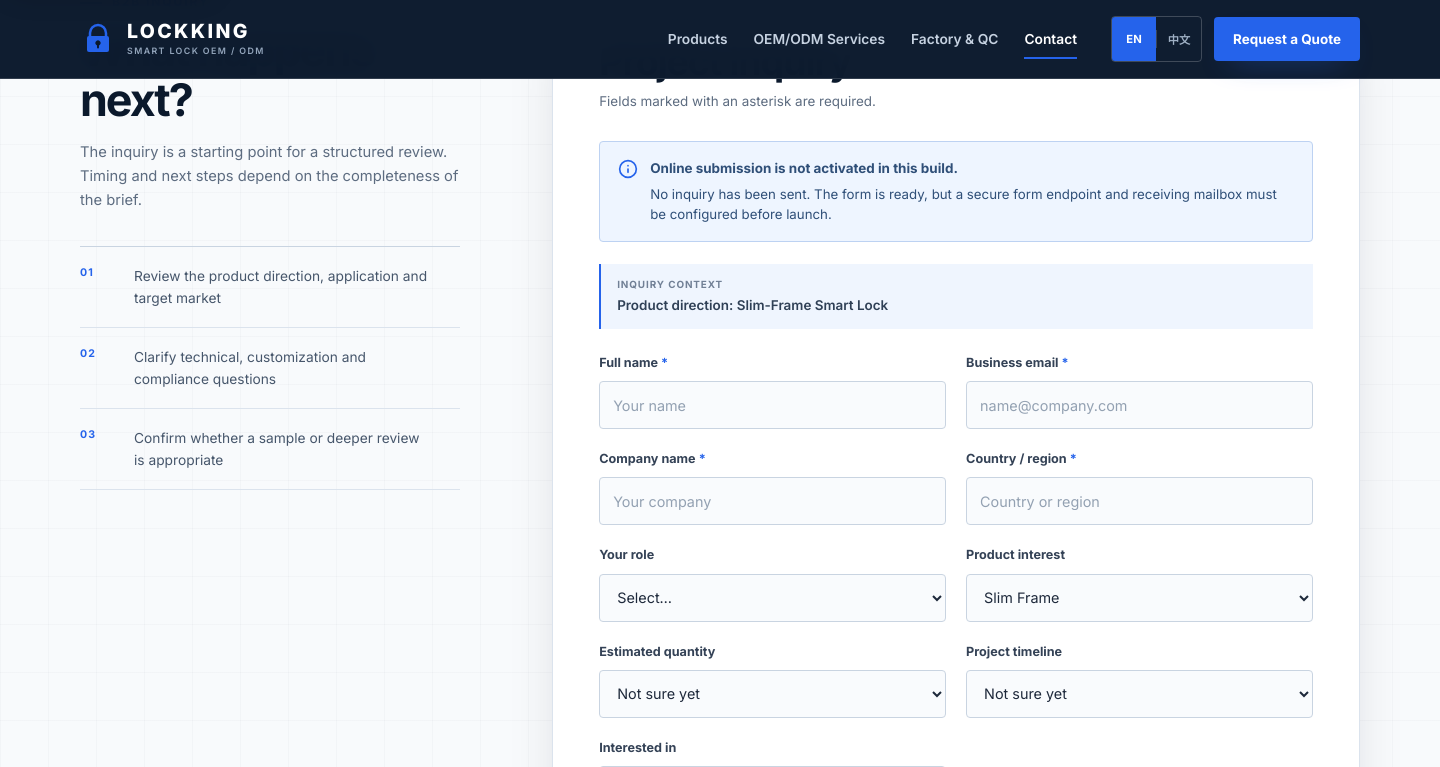
inquiry form submission states › shows success only after the submission adapter resolves
(page scrolled)
In the field labelled "Full name *": (773, 405) [599, 381, 946, 429], type "Alex Morgan"
In the field labelled "Business email *": (1140, 405) [966, 381, 1313, 429], type "alex@example.com"
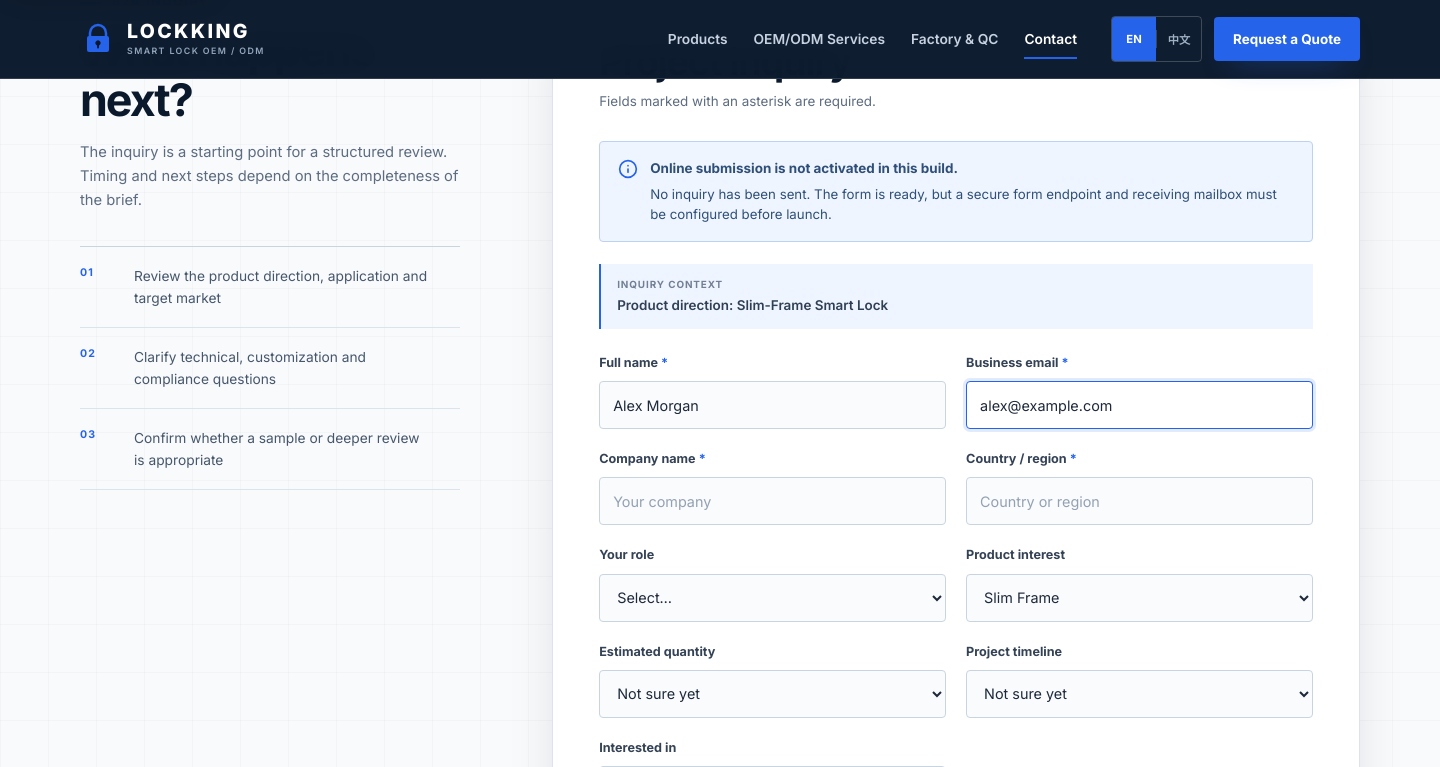
In the field labelled "Company name *": (773, 502) [599, 478, 946, 526], type "Example Brand"
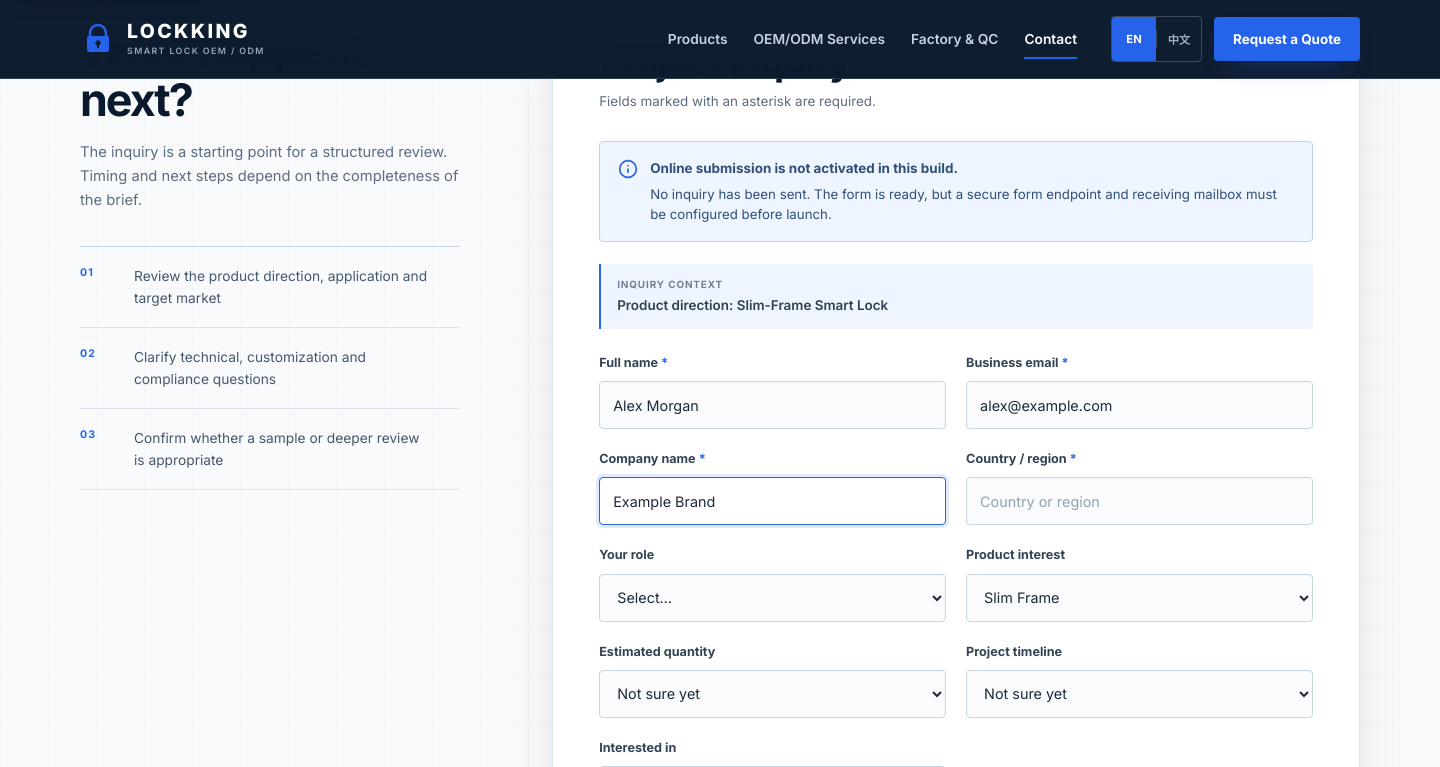
In the field labelled "Country / region *": (1140, 502) [966, 478, 1313, 526], type "Germany"
(page scrolled)
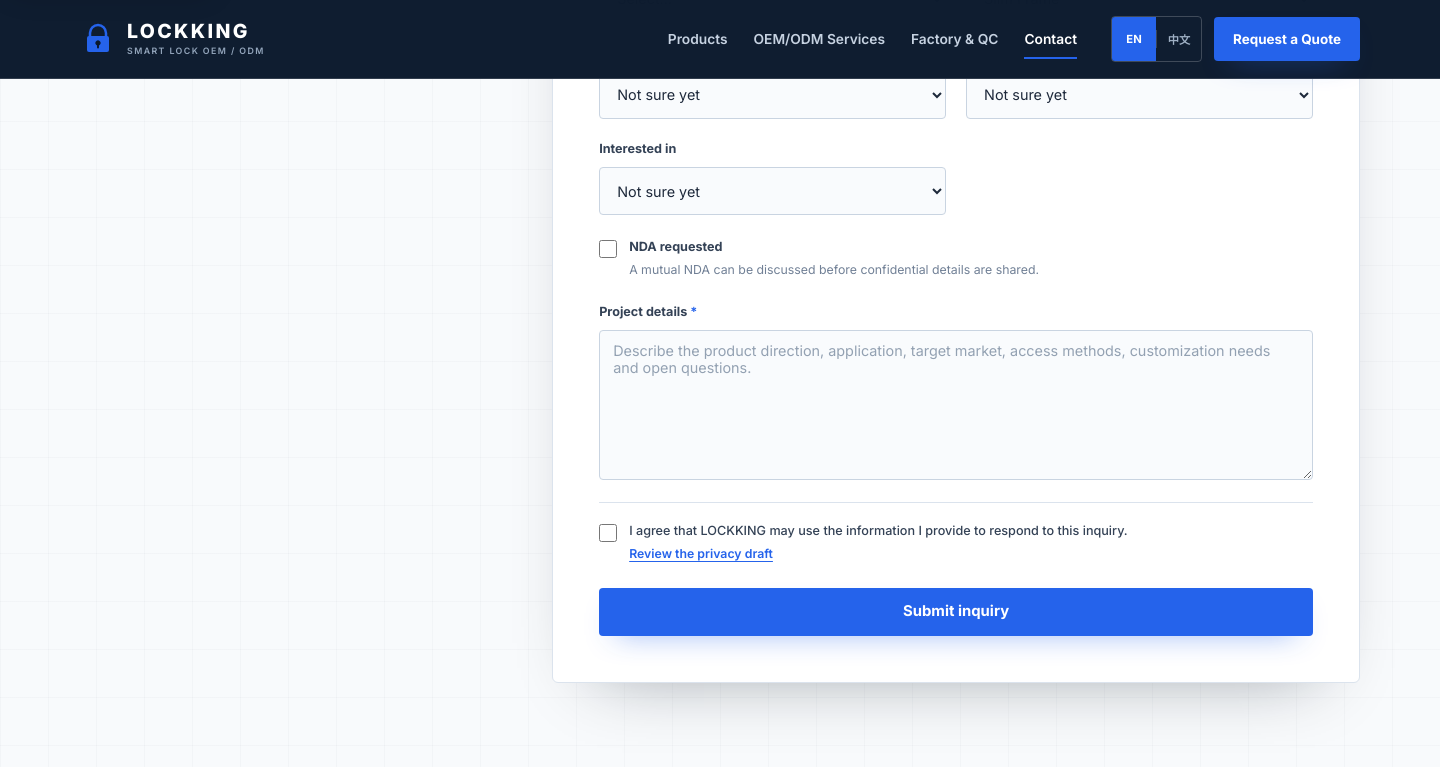
In the text box labelled "Project details *": (956, 405) [599, 330, 1313, 480], type "We are evaluating a slim-frame smart lock for a residential project in Germany."
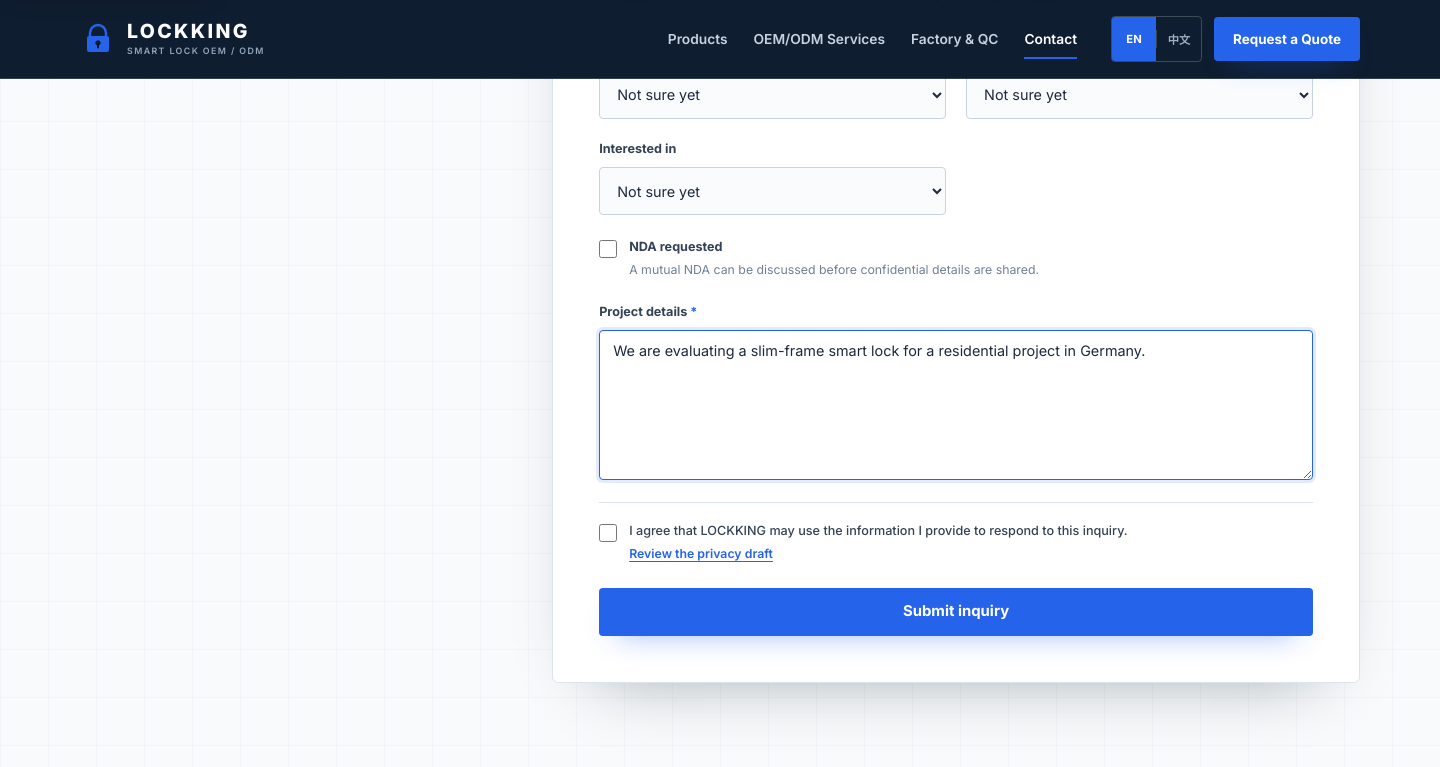
Click the checkbox labelled "I agree that LOCKKING": (608, 533) [599, 524, 617, 542]
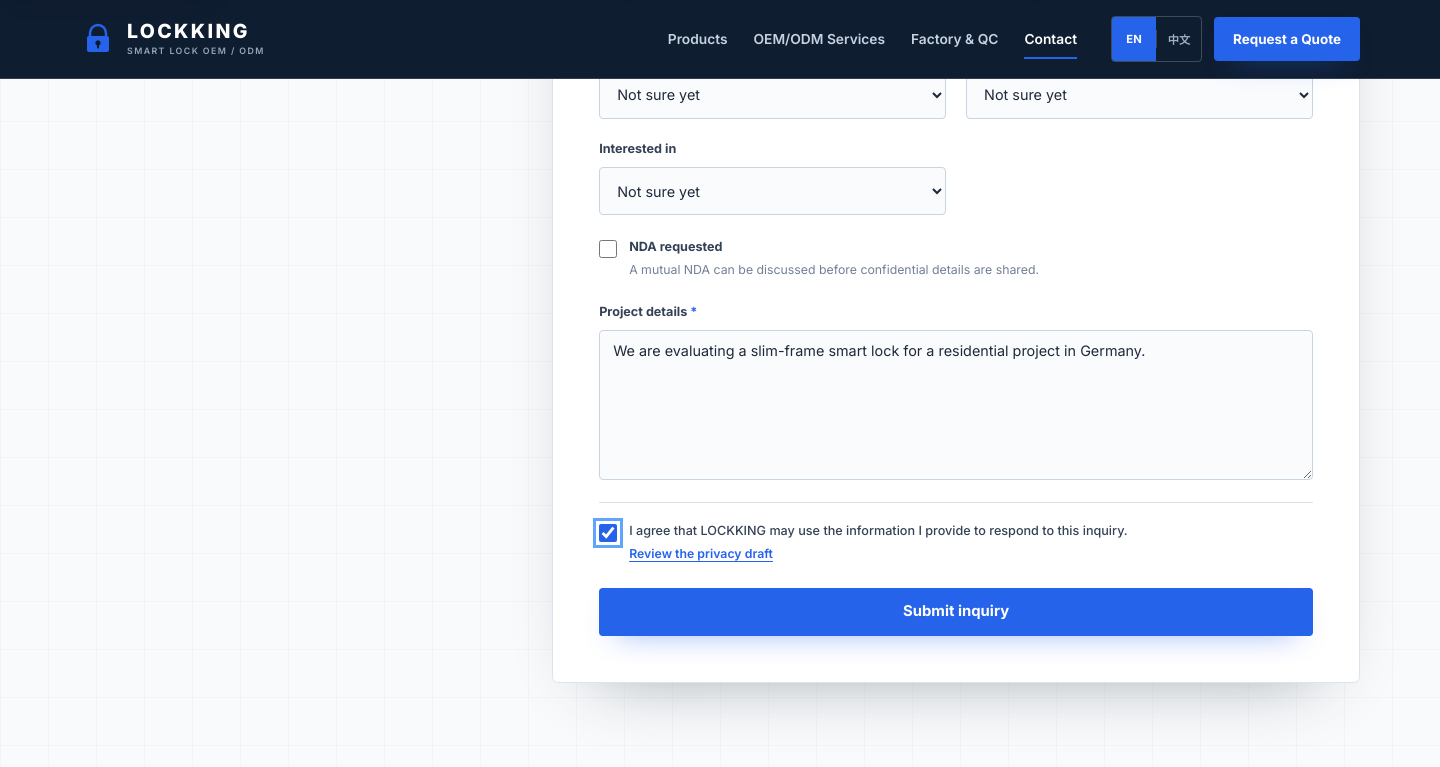
Click the button "Submit inquiry": (956, 612) [599, 588, 1313, 636]
(page scrolled)
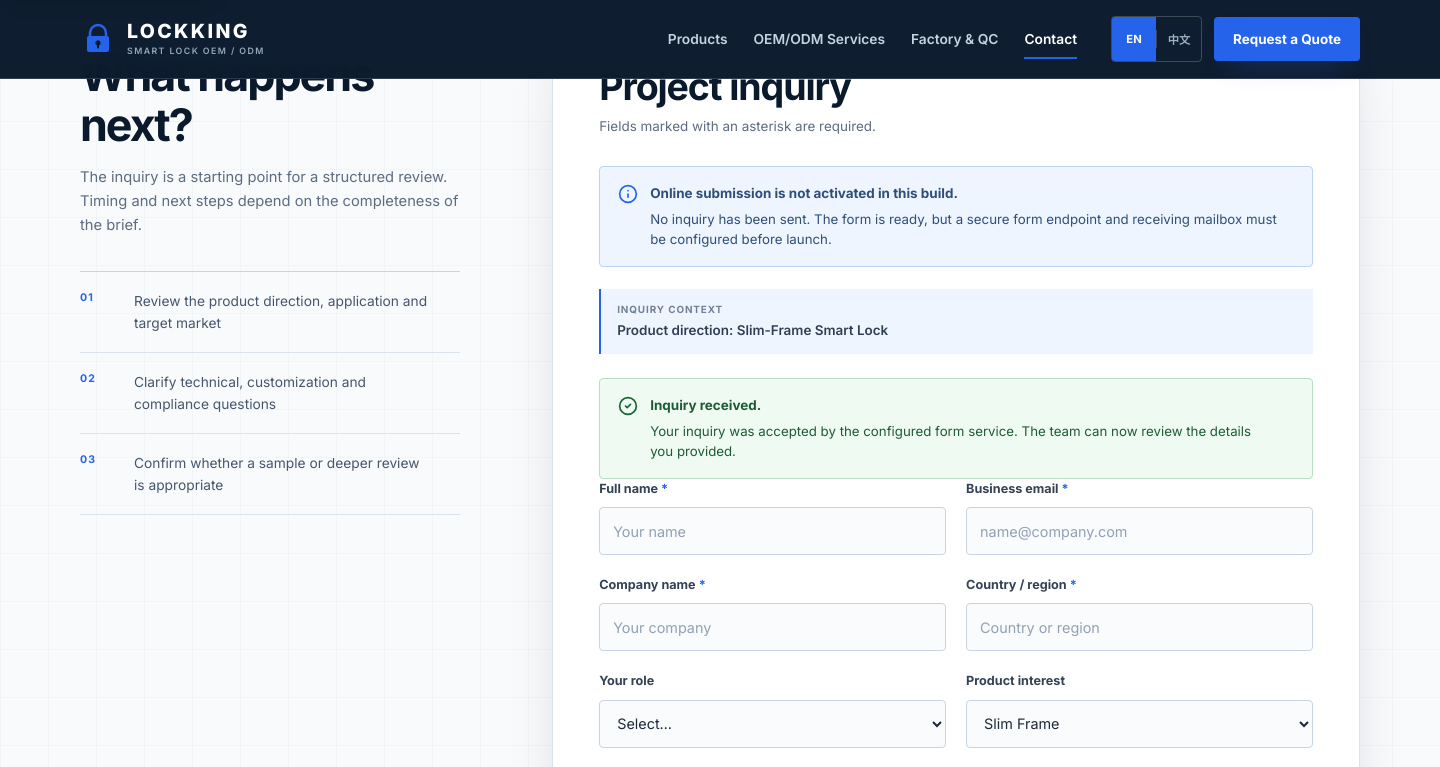
Now the text "Inquiry received." is shown, box [650, 397, 761, 413]
